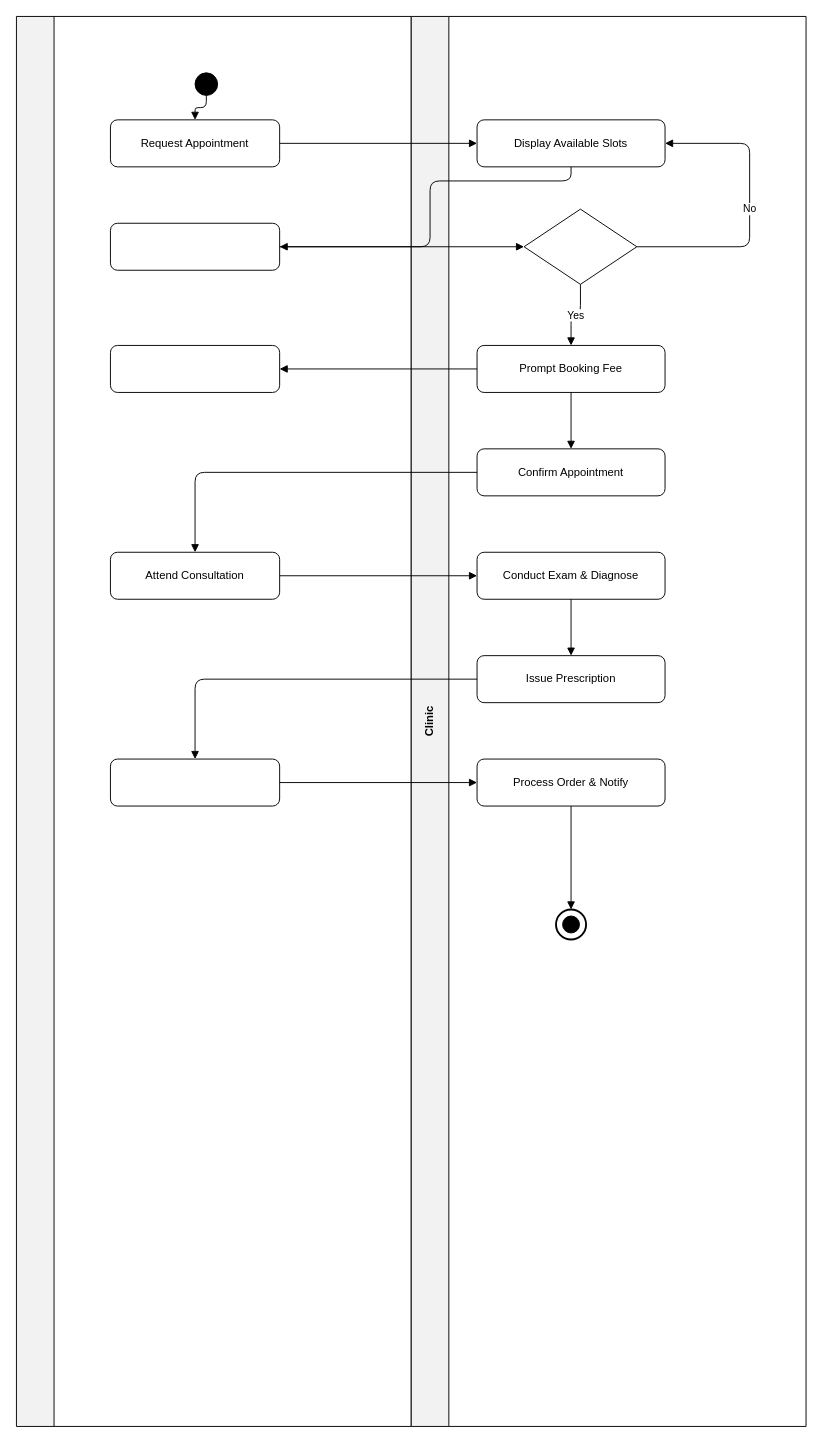
Some shapes in this 823 by 1443 pixel diagram are drawn without their labels. Each missing label, with the box of its shape:
Order Medication: (110, 758, 280, 806)
Patient: (16, 16, 411, 1426)
Pay Booking Fee: (110, 345, 280, 392)
Select Slot & Details: (110, 222, 280, 270)
Slot Available?: (523, 208, 637, 284)
